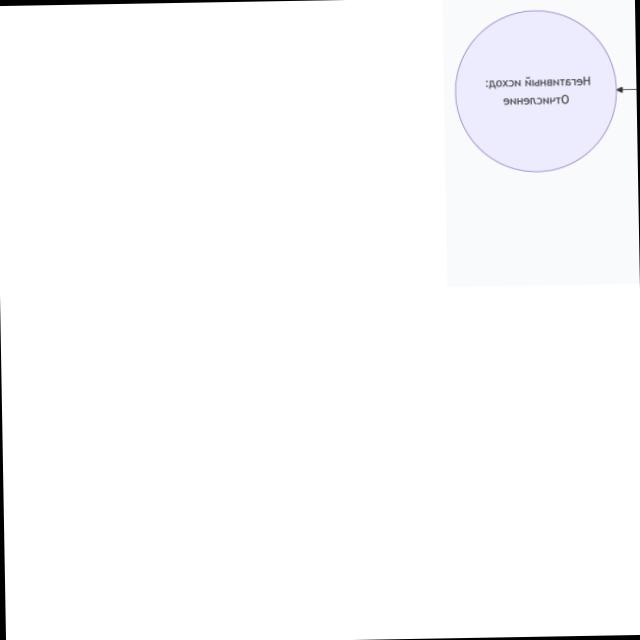circle: (454, 11, 616, 171)
